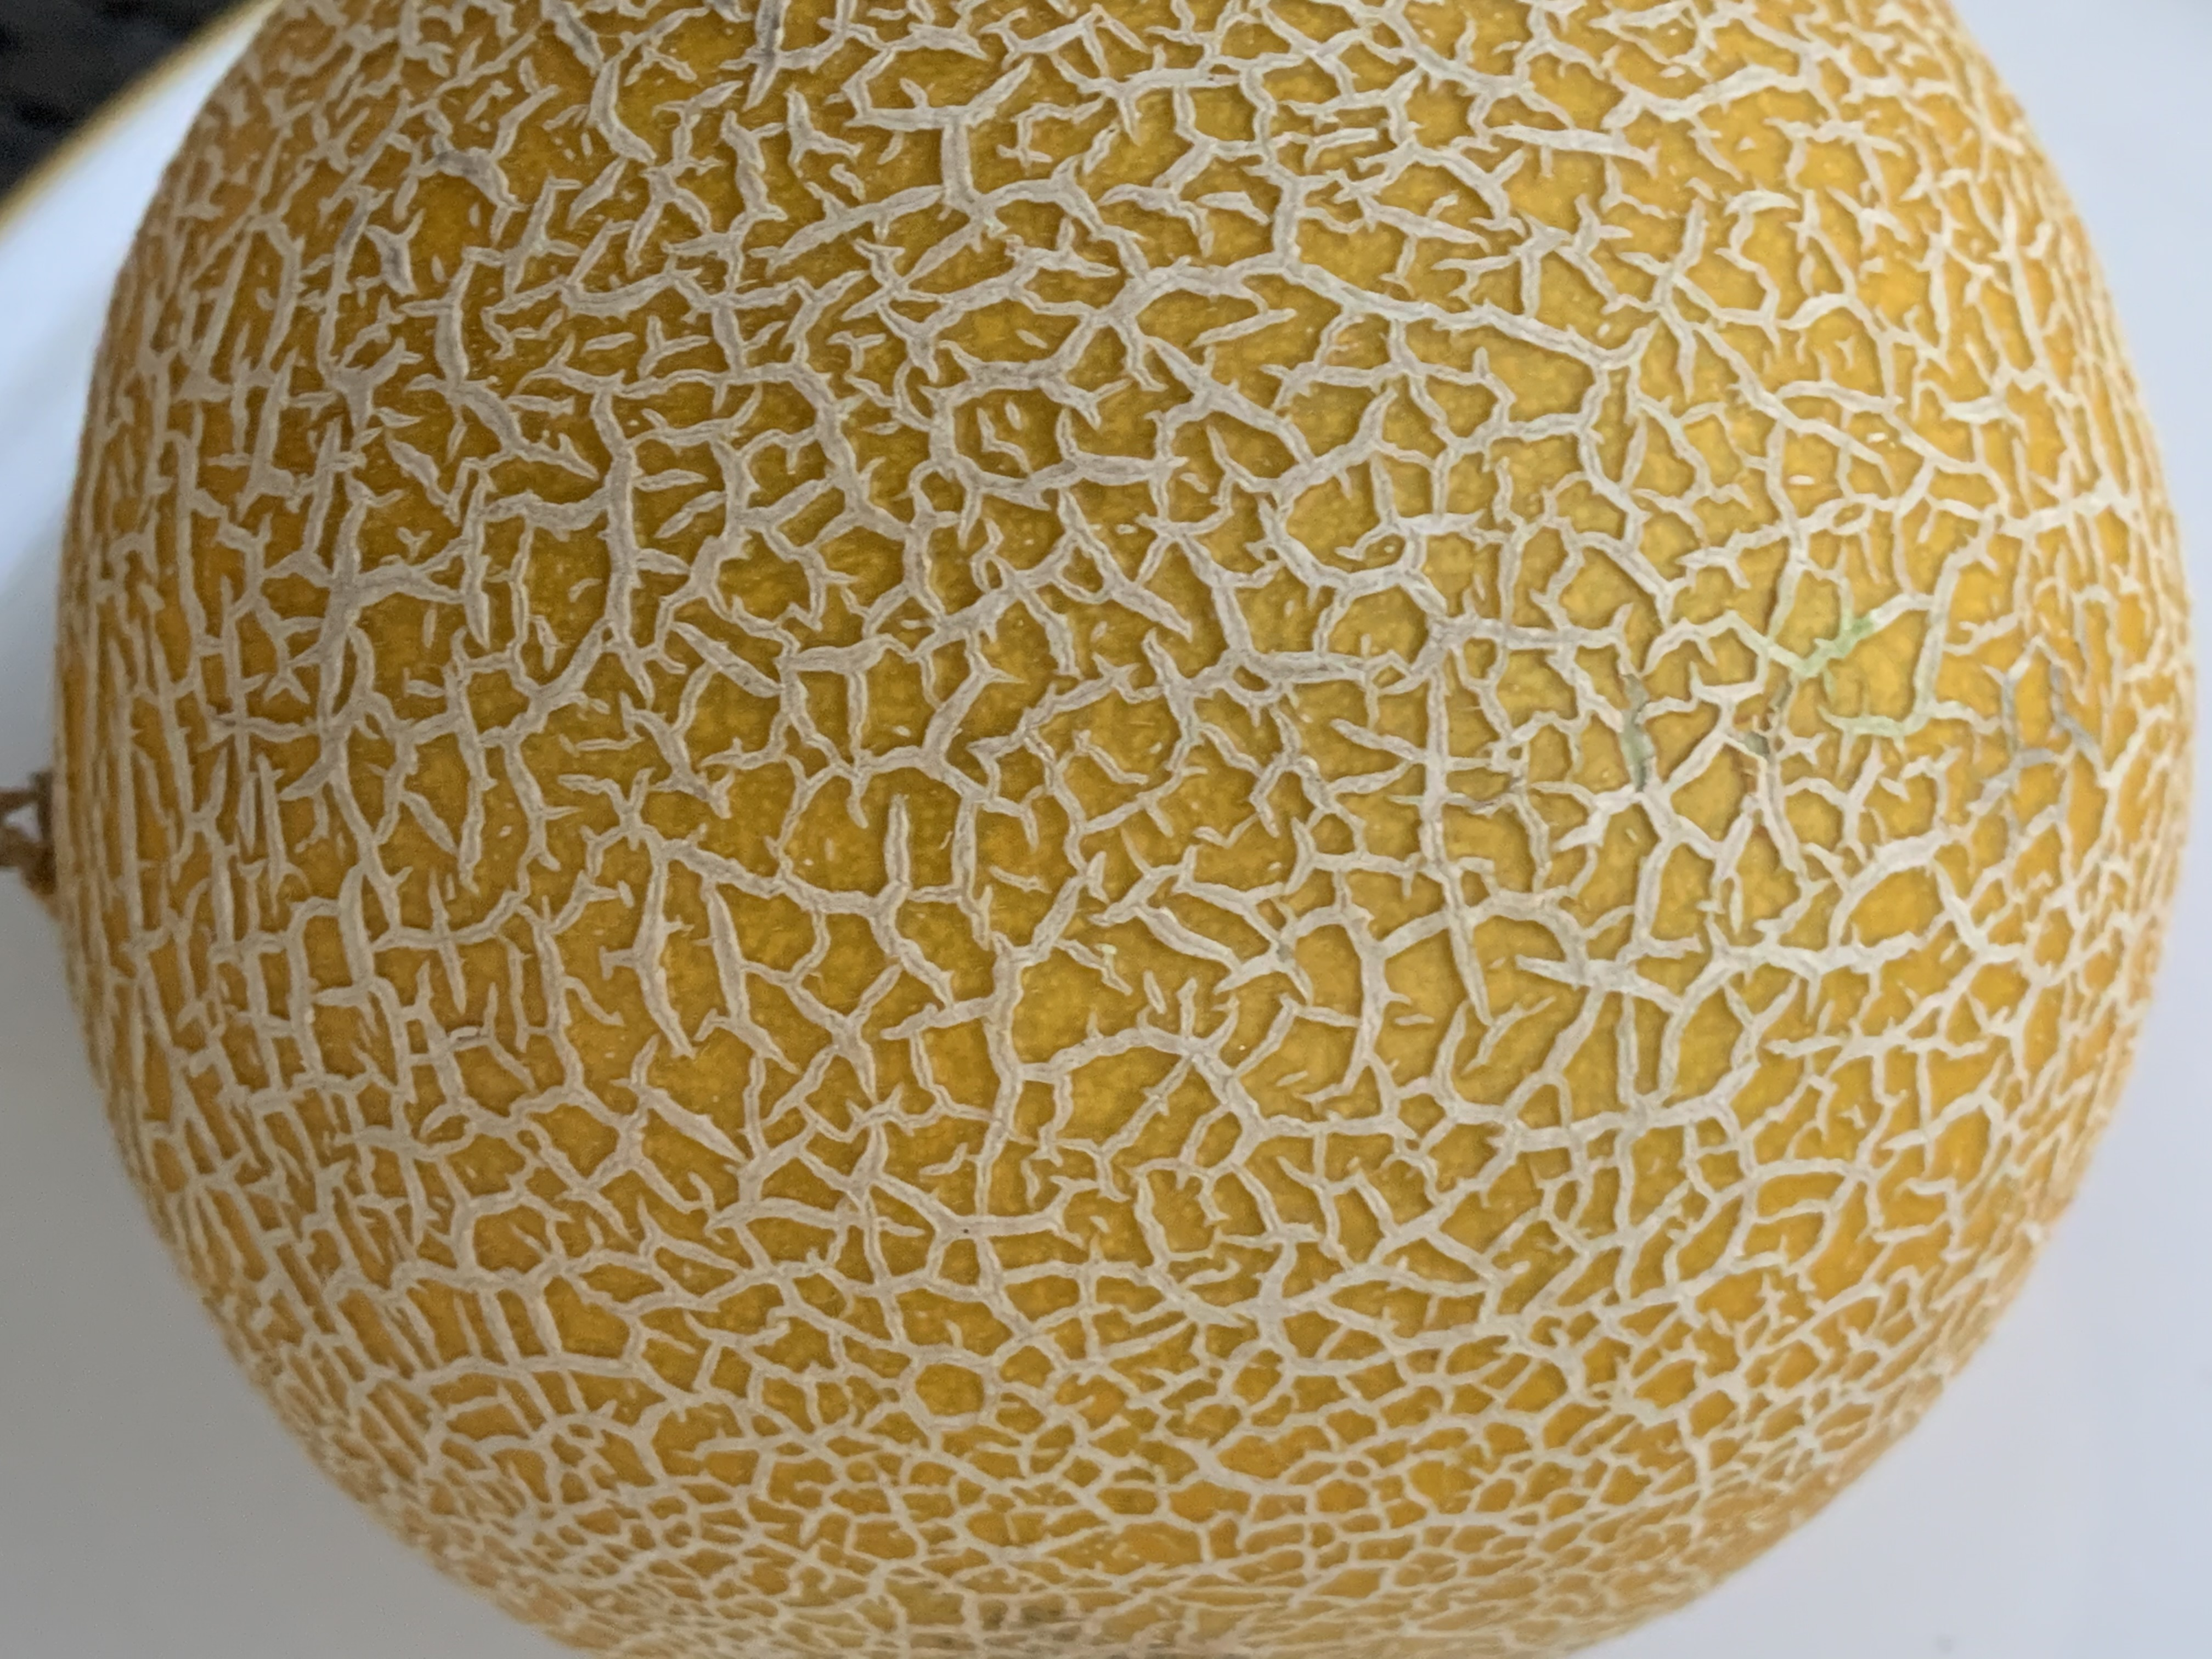galia melon: (9, 5, 2123, 1659)
